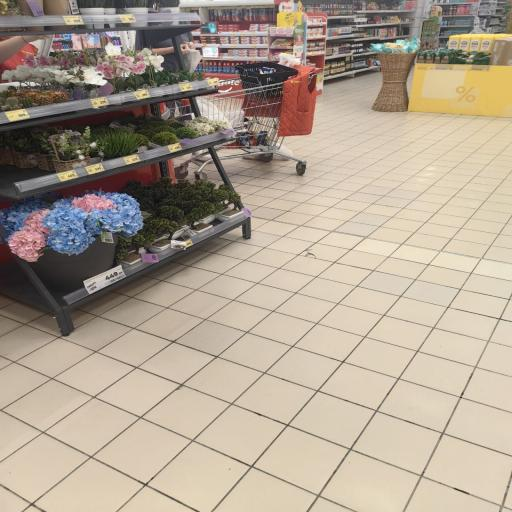shopping_cart: (167, 67, 324, 183)
